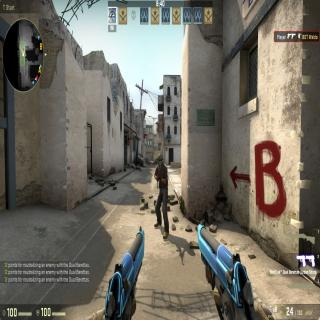T-Body: (153, 153, 170, 239)
T-Head: (156, 152, 164, 168)
